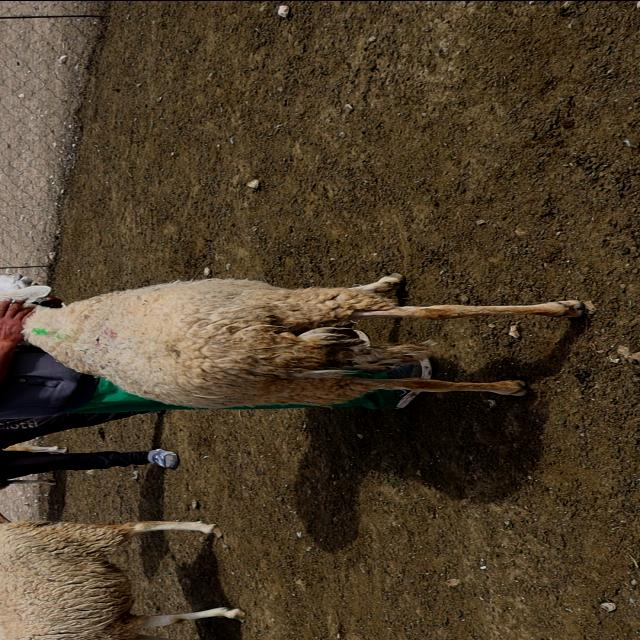Score_4: (21, 273, 582, 408)
